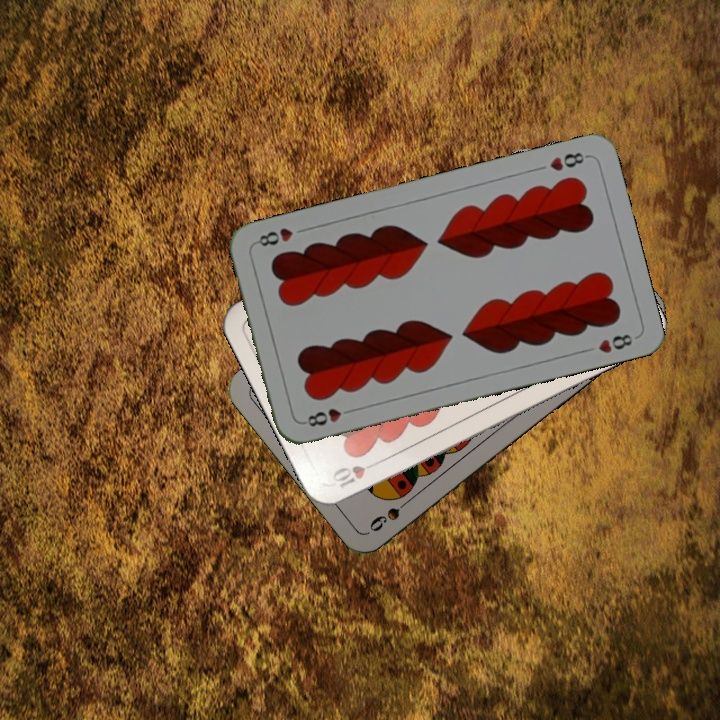H10: (328, 456, 384, 491)
H8: (299, 404, 357, 430), (545, 148, 591, 174)
S9: (365, 492, 416, 535)
